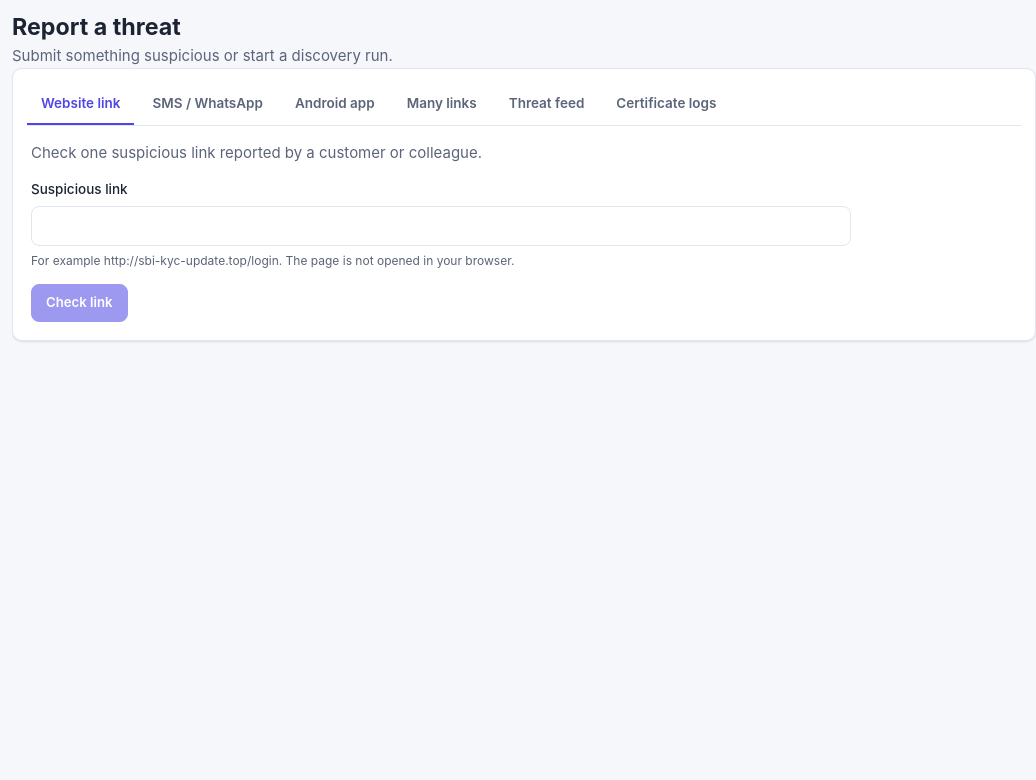
Test: Report page › shows what was extracted from a message and APK follow-ups
The width and height of the screenshot is (1036, 780).
Click the tab "SMS / WhatsApp" at (208,104), box x1=138 y1=83 x2=277 y2=125
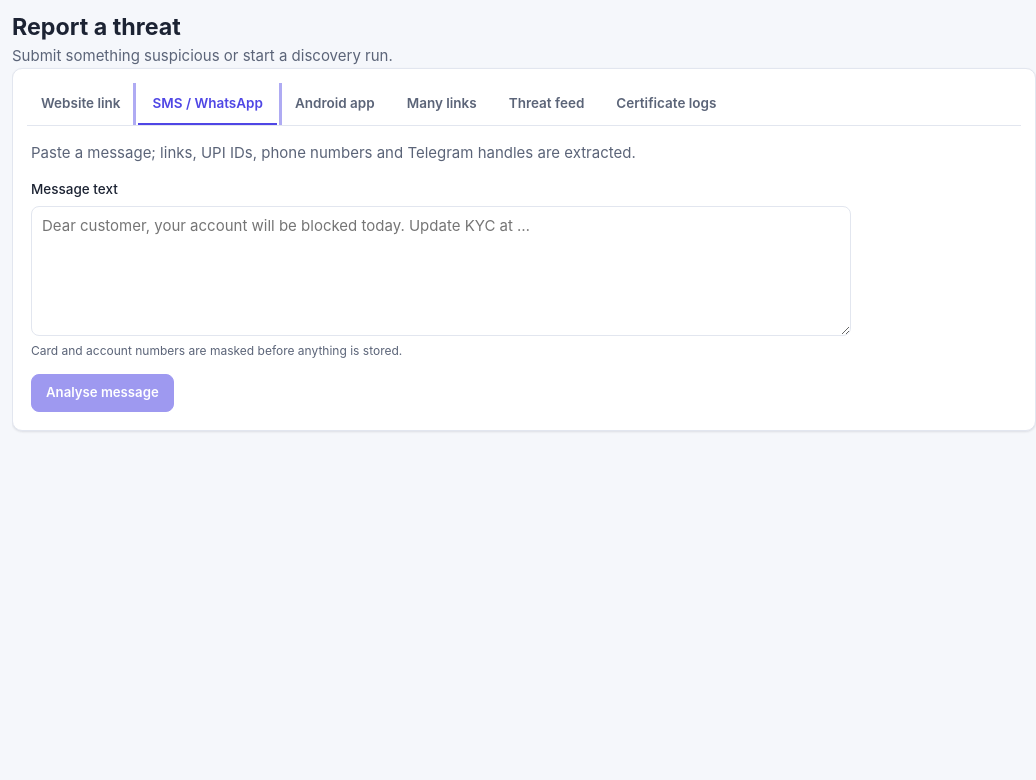
Type "Pay Rs 10 to sbi.kyc@ybl" into the text box labelled "Message text" at (441,271), box x1=31 y1=206 x2=851 y2=336
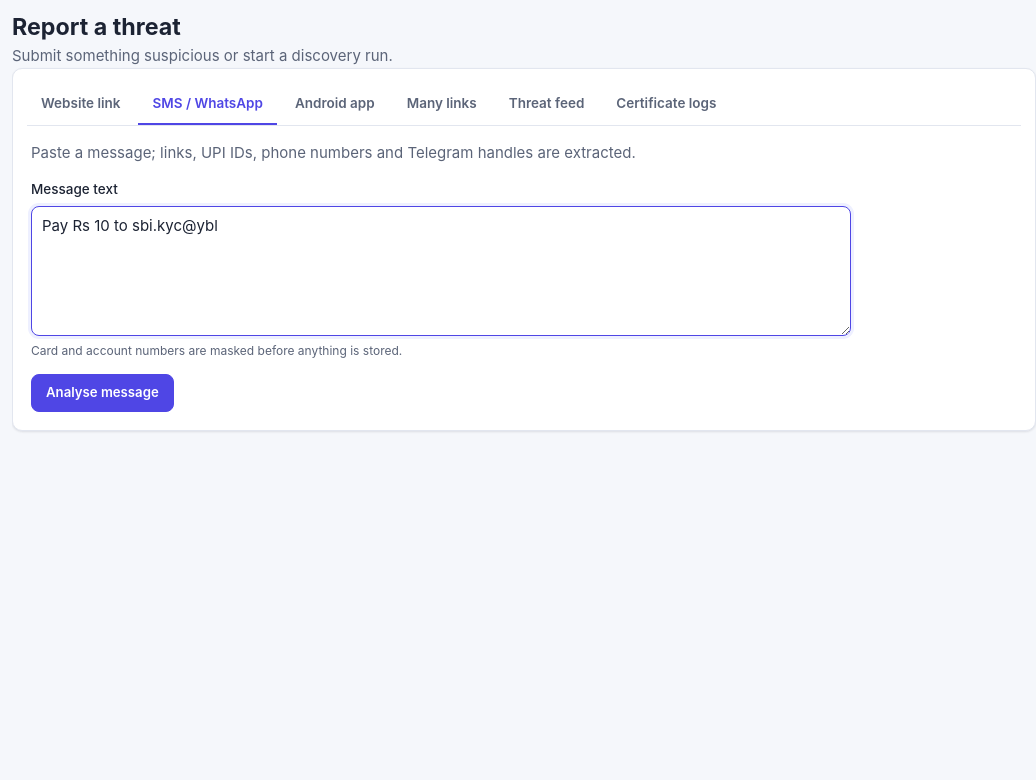
Click the button "Analyse message" at (102,393), box x1=31 y1=374 x2=174 y2=412
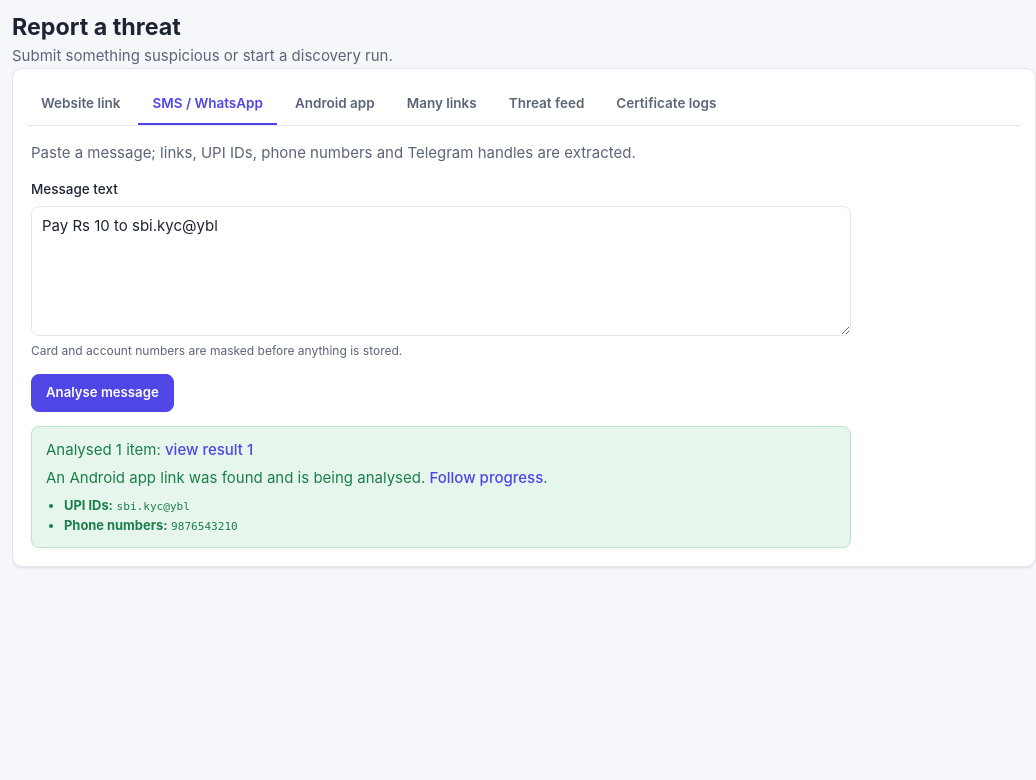
Result: the text "sbi.kyc@ybl" is shown at x1=117 y1=500 x2=190 y2=513
Result: the text "An Android app link was found" is shown at x1=46 y1=468 x2=425 y2=487
